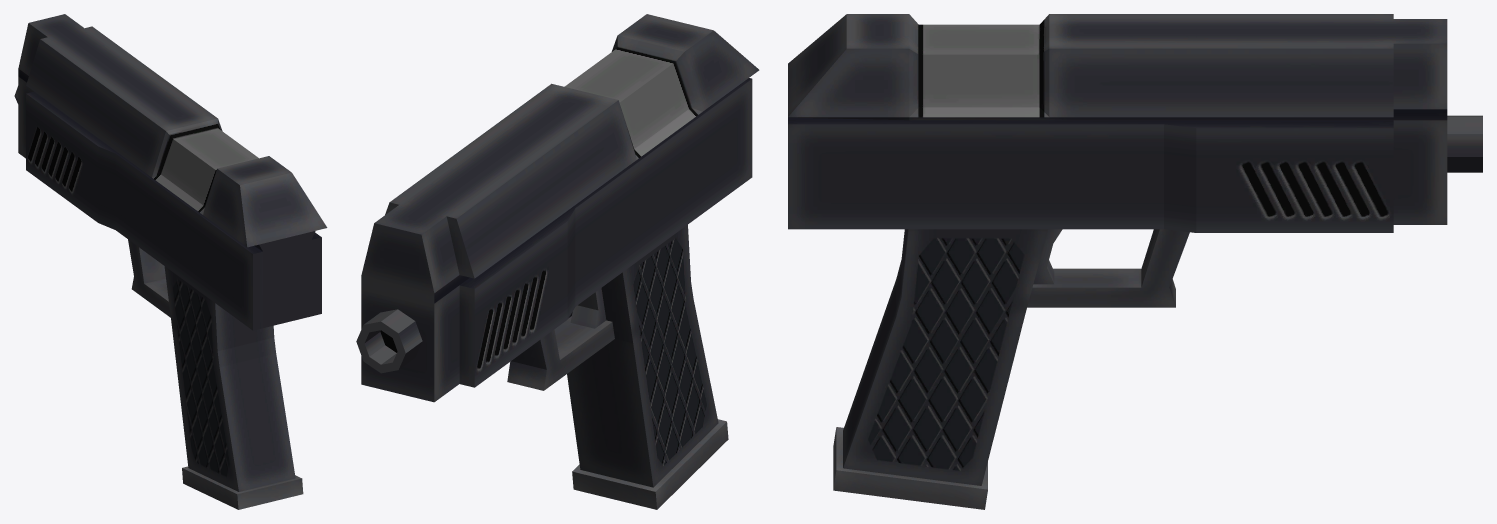
File: pistol.glb
3 views of the same model, side by side, from view 1: azimuth 30°, elevation 25°; view 2: azimuth 150°, elevation 25°; view 3: azimuth 270°, elevation 25° (orthographic). The views are drawn at different scales.
Parts seen in each view (by area): view 1: stubber1; view 2: stubber1; view 3: stubber1.
Part boxes in pixels (x1,y1,x2,y2): stubber1: (14,14,327,509); stubber1: (356,14,759,509); stubber1: (788,14,1482,509).
Bounding box in the file's own units: 0.1153 × 0.4582 × 0.6314.
1 material, 1 textured.
